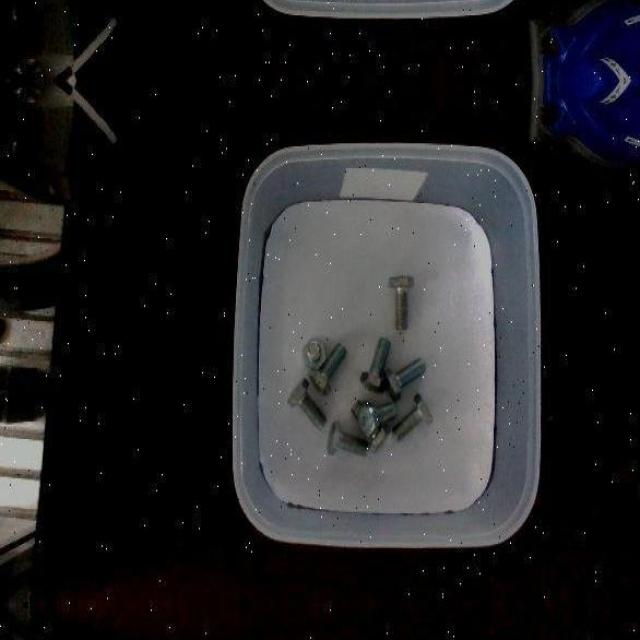screw: (287, 376, 328, 430), (308, 342, 347, 396), (393, 393, 434, 441), (383, 356, 427, 400), (361, 336, 391, 394), (327, 419, 368, 456), (387, 274, 412, 329), (358, 401, 396, 437), (302, 338, 326, 370)
